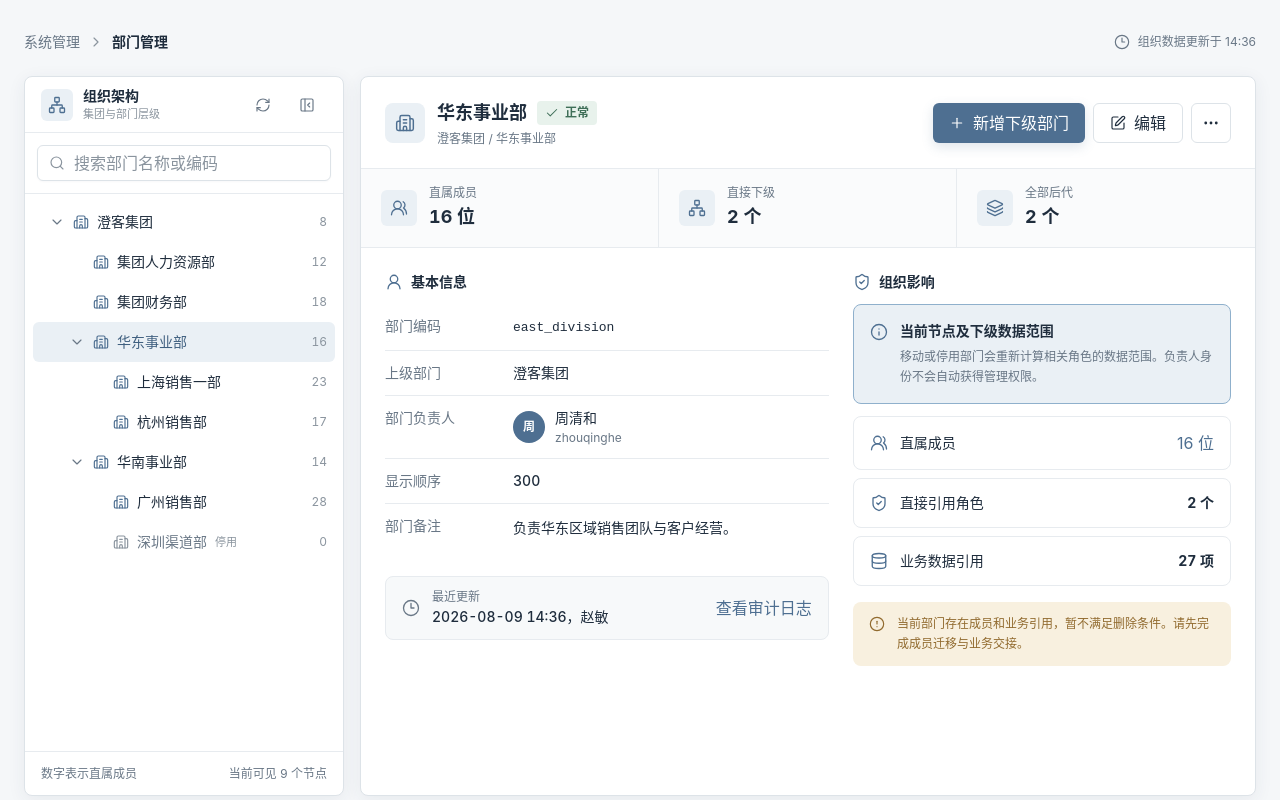
Test: DepartmentManagementPrototype › validates the department name in the create drawer
Click the button "新增下级部门" at (1009, 122), box x1=933 y1=102 x2=1085 y2=142
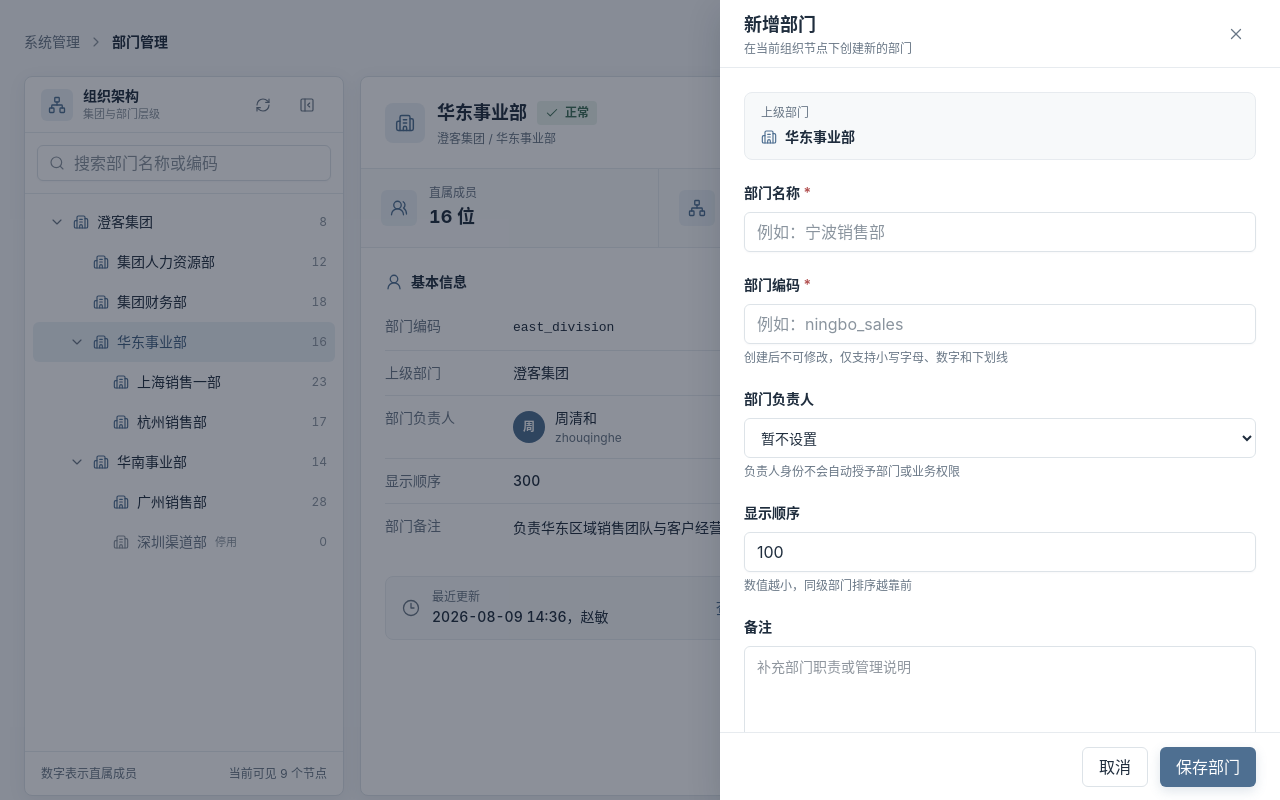
Result: the dialog "新增部门" is shown at x1=720 y1=0 x2=1279 y2=799
Clear the field labelled "部门名称" at (1000, 232), box x1=744 y1=212 x2=1256 y2=252
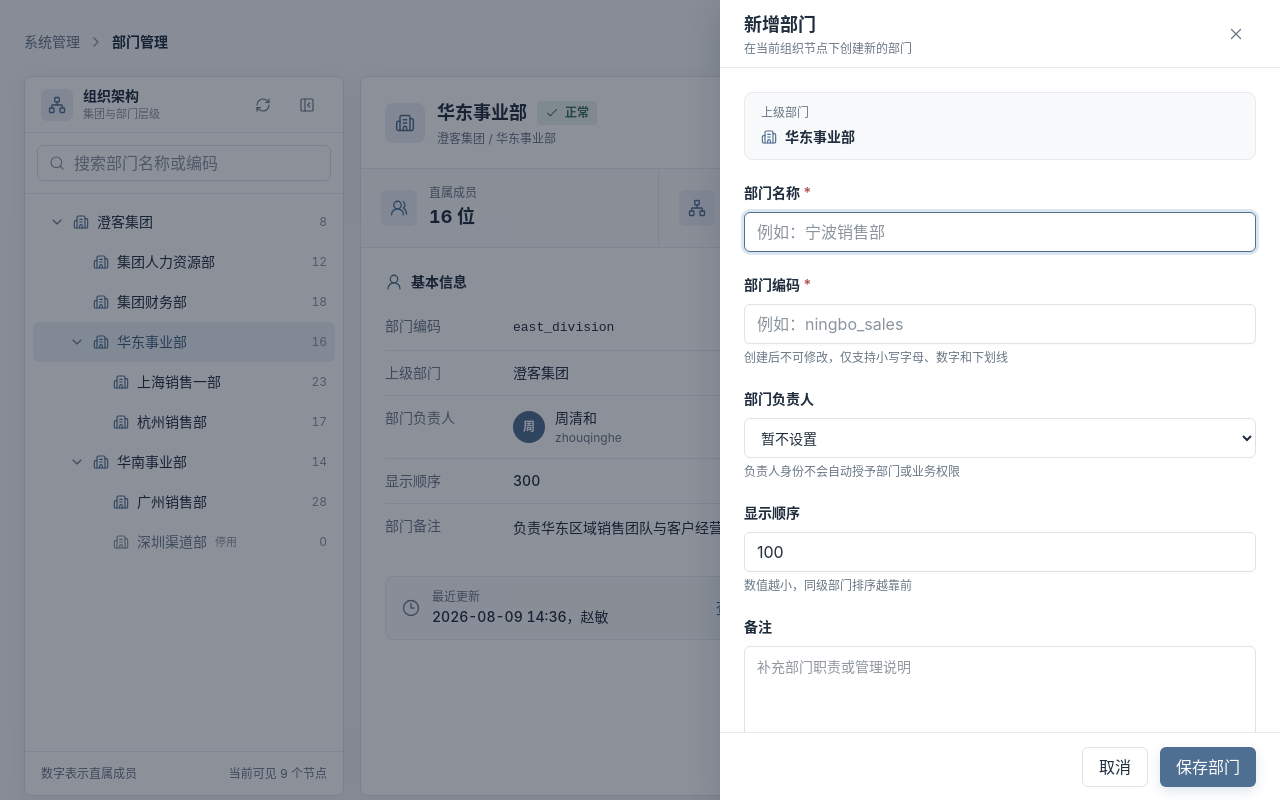
Click the button "保存部门" at (1208, 766), box x1=1160 y1=746 x2=1256 y2=786
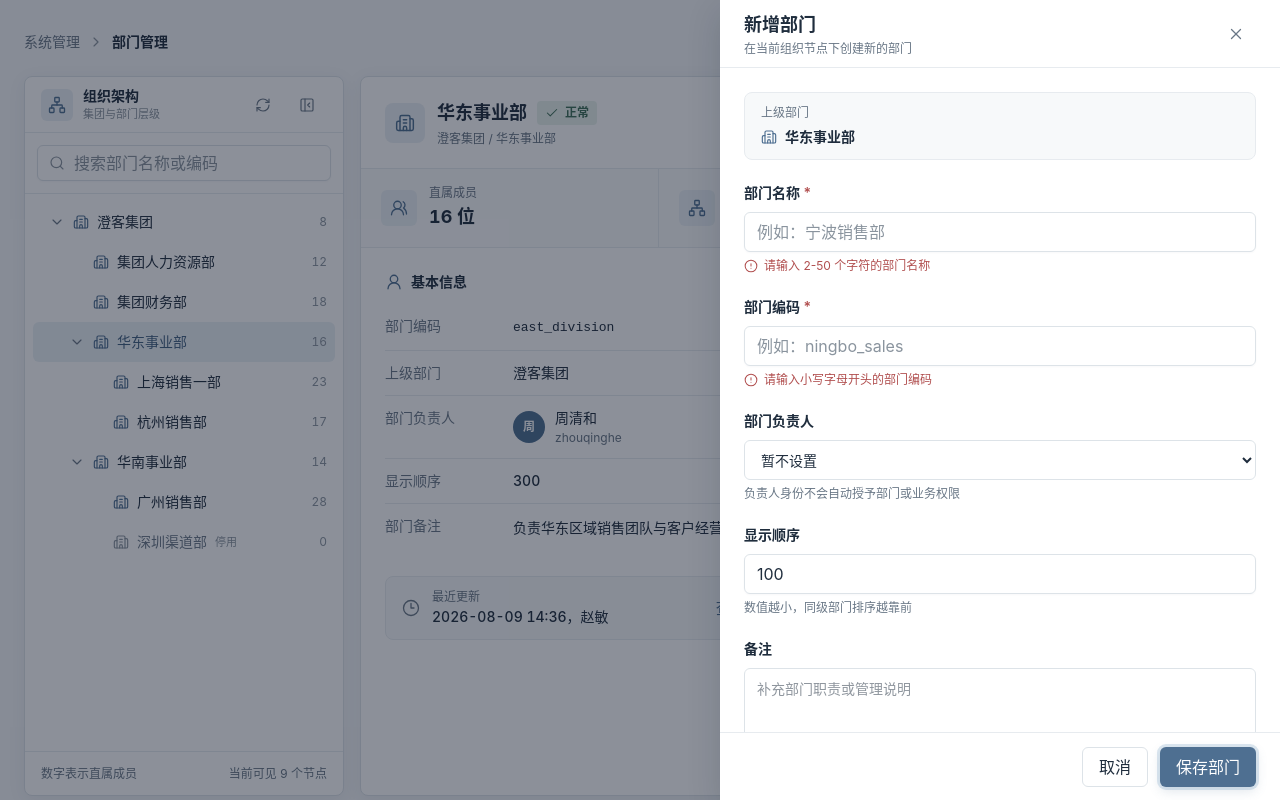
Result: the text "请输入 2-50 个字符的部门名称" is shown at x1=744 y1=258 x2=930 y2=273
